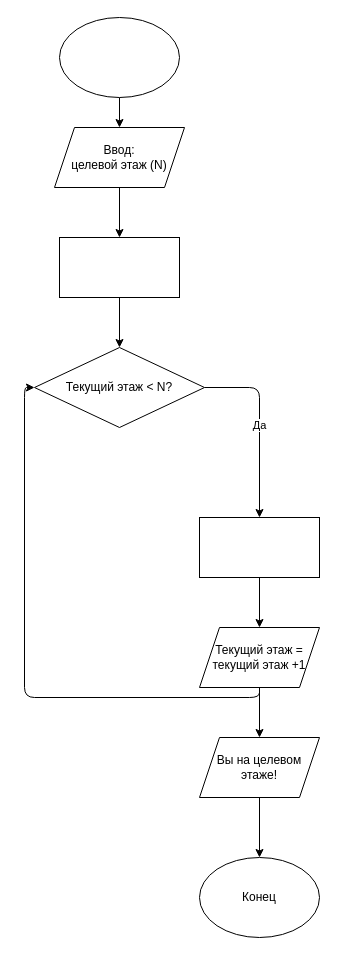
Some shapes in this 337 by 955 pixel diagram are drawn without their labels. Each missing label, with the box of its shape:
Начало: (58, 16, 180, 98)
Поднять на этаж выше: (198, 516, 320, 578)
Текущий этаж = 1: (58, 236, 180, 298)
